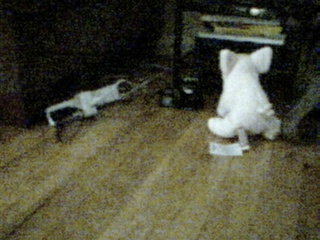piggy: (206, 44, 283, 142)
